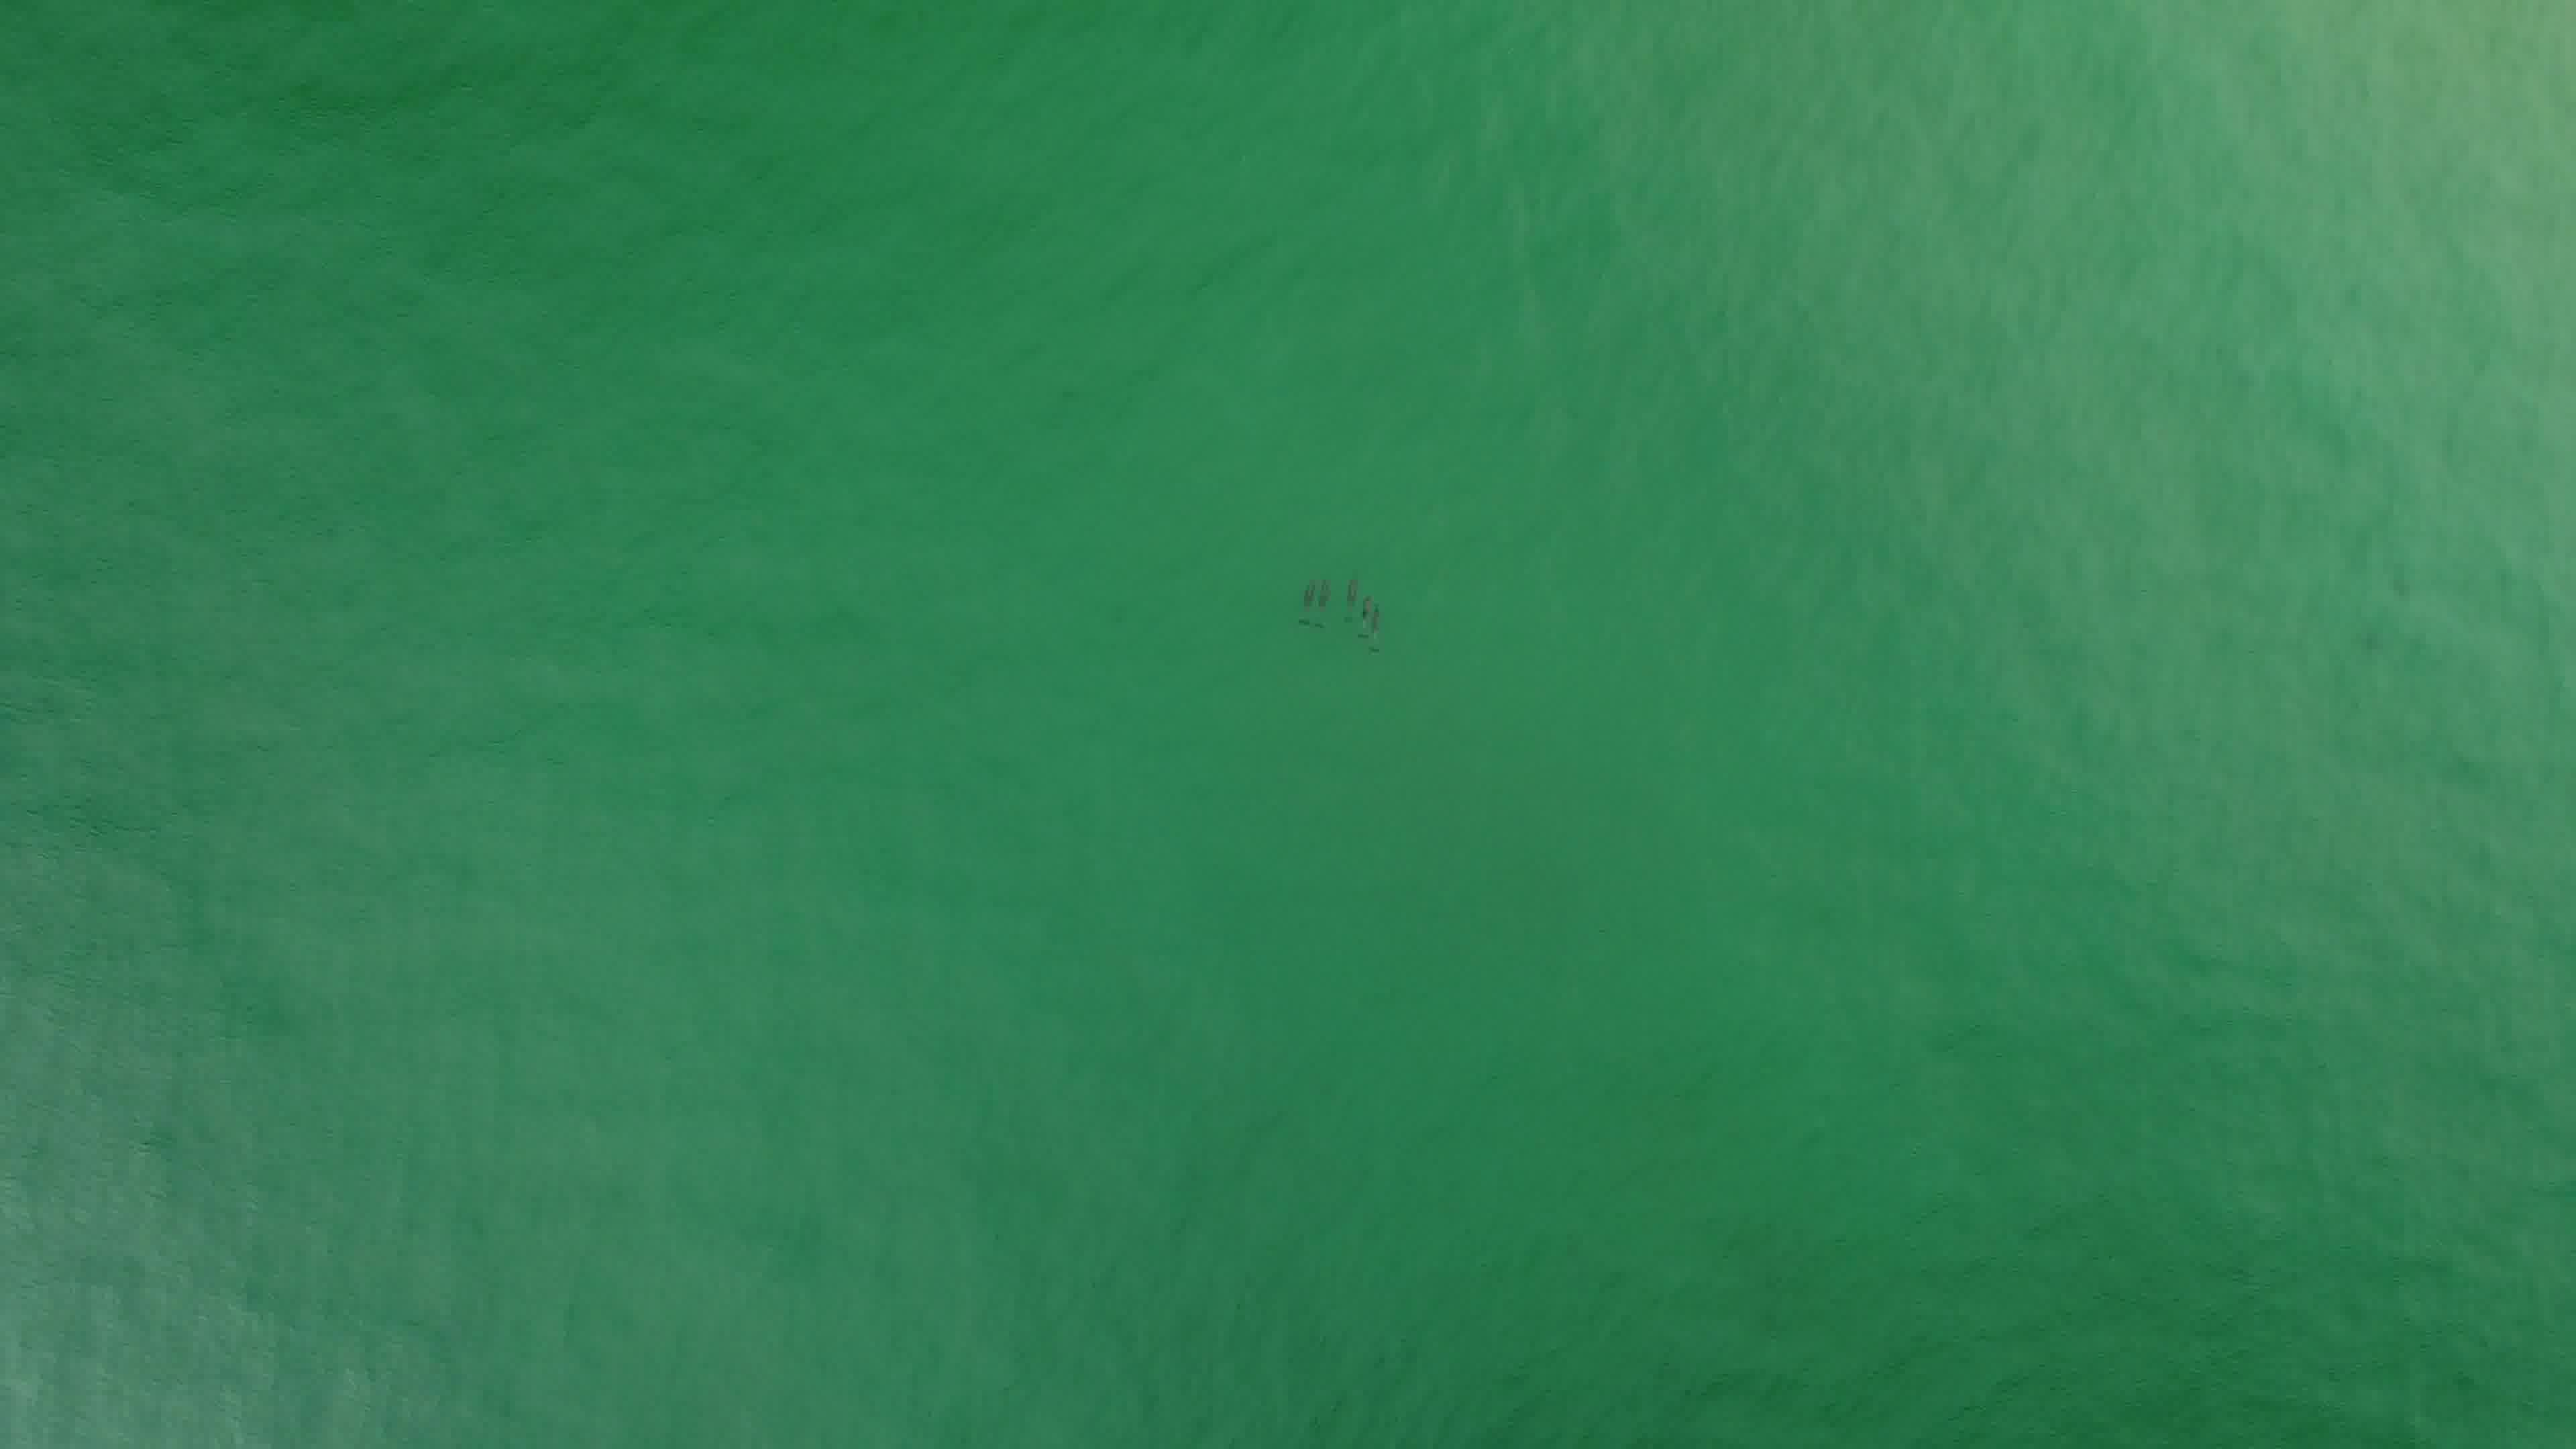dolphin: (1307, 561, 1338, 635), (1334, 561, 1361, 644), (1292, 570, 1318, 633), (1355, 577, 1378, 649)
